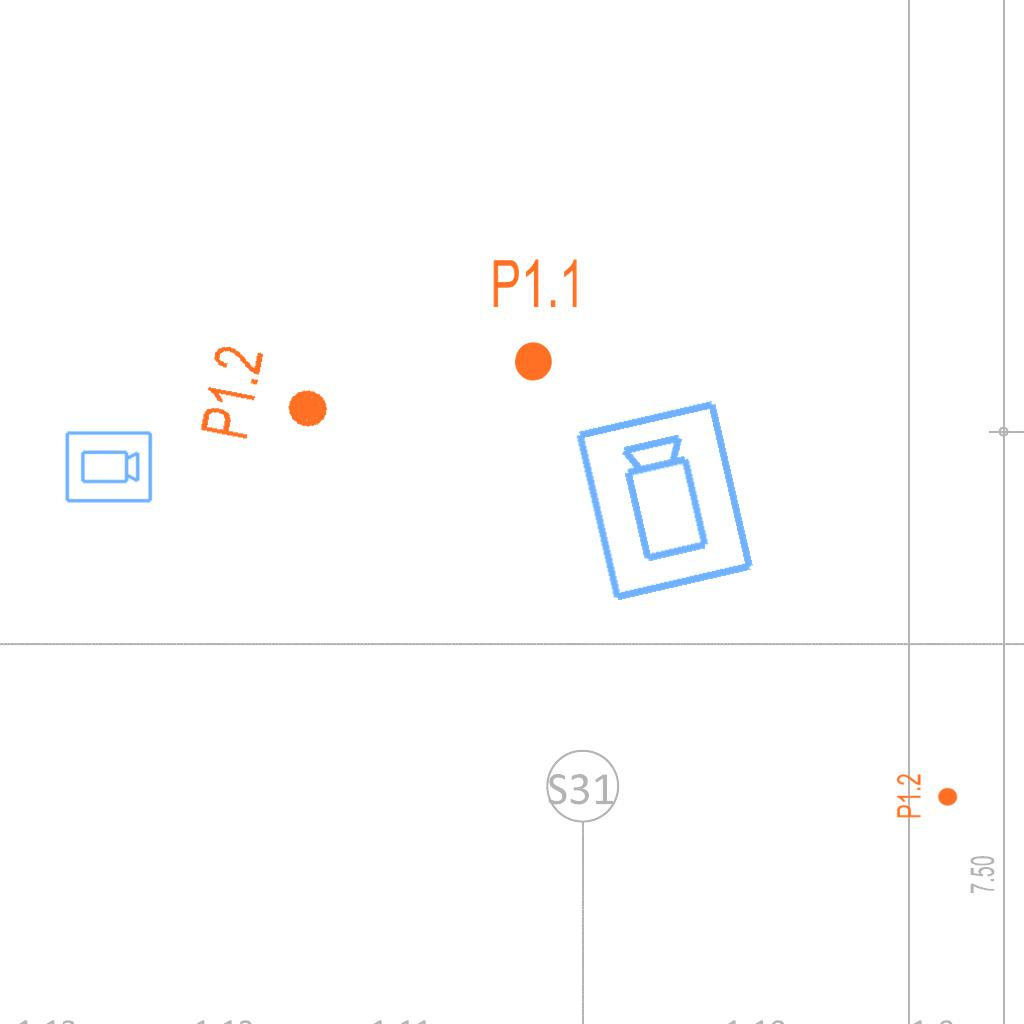Downlight_LED_Einbauleuchten_Flur: (195, 341, 340, 457), (490, 256, 583, 384), (895, 773, 959, 819)
KFO_Kamera_mit_Festobjektiv: (570, 395, 762, 607), (63, 429, 154, 506)
